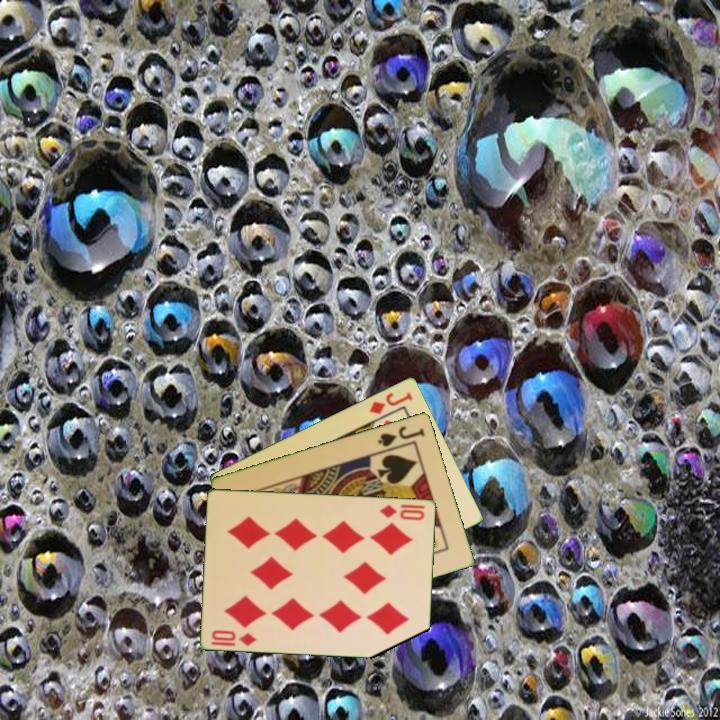10d: (209, 626, 259, 649), (377, 501, 428, 523)
Jd: (366, 388, 416, 417)
Js: (374, 422, 428, 449)
